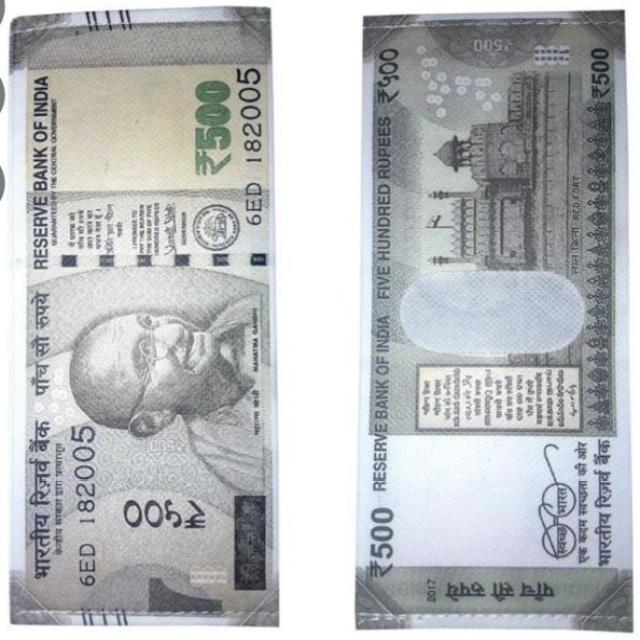500IndianRupees: (355, 13, 630, 629)
